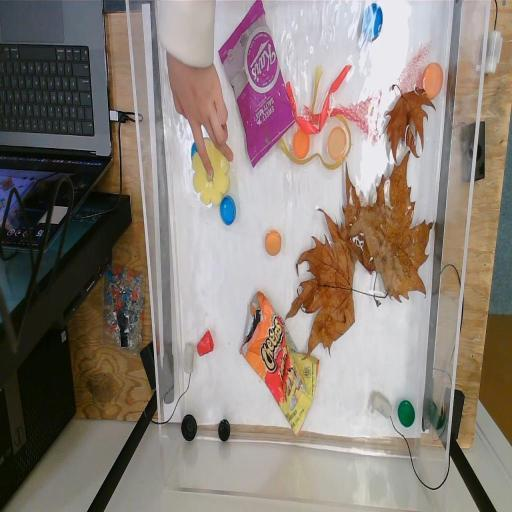Bottle Cap: (422, 60, 444, 100), (362, 4, 384, 42), (328, 126, 346, 160), (216, 410, 234, 444), (264, 228, 284, 258), (293, 127, 311, 160), (220, 194, 238, 226), (398, 399, 416, 431), (182, 415, 198, 441), (190, 138, 198, 162)
Cone Cap: (196, 328, 216, 356)
Leaf: (284, 206, 390, 356), (342, 148, 434, 310), (380, 82, 438, 162)
Netting: (304, 87, 381, 142), (390, 43, 444, 96)
Plastic Bag: (217, 0, 296, 168), (238, 288, 320, 436)
Plastic Strand: (275, 66, 351, 170), (286, 64, 352, 132)
Sponge: (192, 138, 230, 208)
